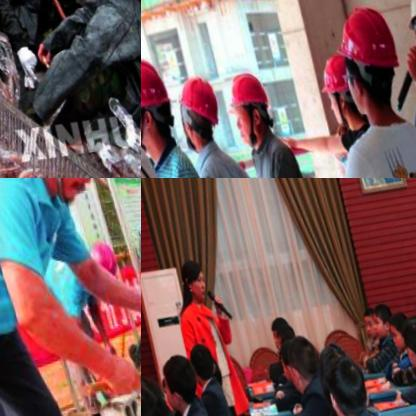head: (315, 343, 372, 416), (151, 353, 197, 411), (278, 334, 321, 394), (172, 252, 206, 302), (380, 310, 409, 355), (364, 301, 394, 344), (183, 341, 212, 384), (268, 335, 296, 378), (262, 307, 290, 348), (397, 315, 416, 367), (354, 301, 378, 342), (269, 322, 289, 347), (407, 290, 416, 327)
helmet: (328, 0, 405, 118), (315, 46, 374, 135), (219, 67, 280, 147), (141, 53, 183, 160), (171, 69, 225, 148), (14, 178, 132, 211)
